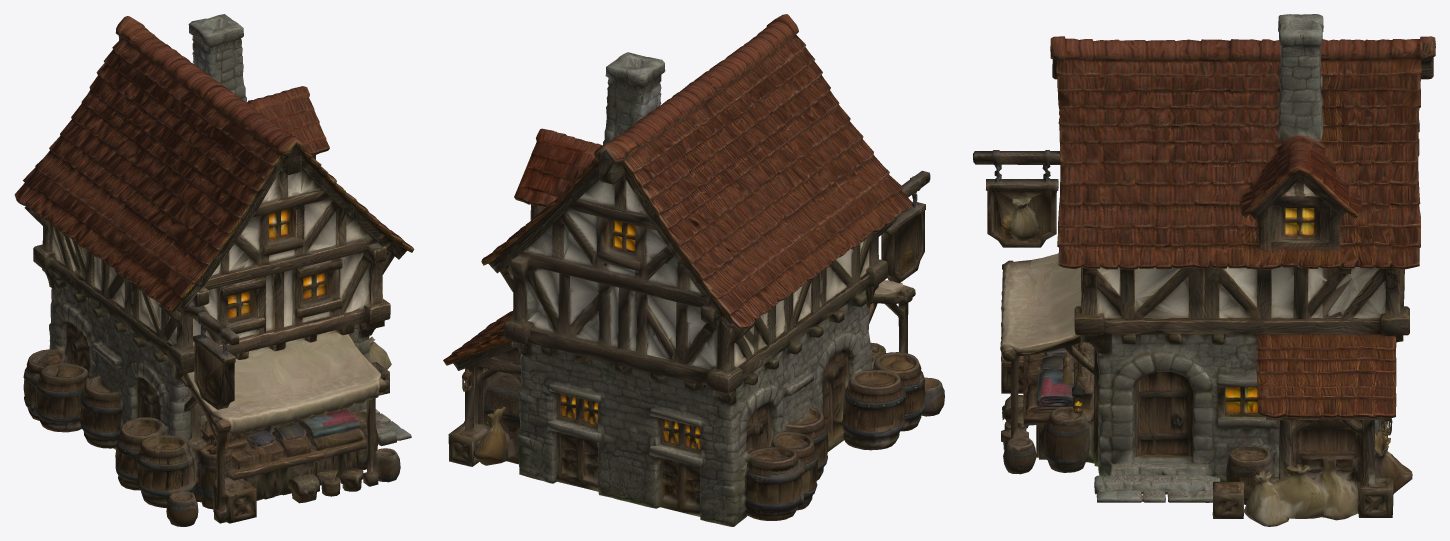
File: Timbered_Market_House.glb
The picture shows the model from 3 angles, left to right: view 1: azimuth 30°, elevation 25°; view 2: azimuth 150°, elevation 25°; view 3: azimuth 270°, elevation 25°; orthographic projection. The views are drawn at different scales.
Parts seen in each view (by area): view 1: Timbered_Market_House; view 2: Timbered_Market_House; view 3: Timbered_Market_House.
Boxes of the visible parts, x1,y1,x2,y2 form: Timbered_Market_House: (14, 14, 414, 526); Timbered_Market_House: (443, 14, 944, 526); Timbered_Market_House: (973, 14, 1435, 526).
Size of the model in its own units: 1.77 by 1.9 by 1.89.
1 material, 1 textured.
